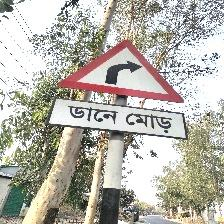Right-turn: (49, 38, 188, 143)
